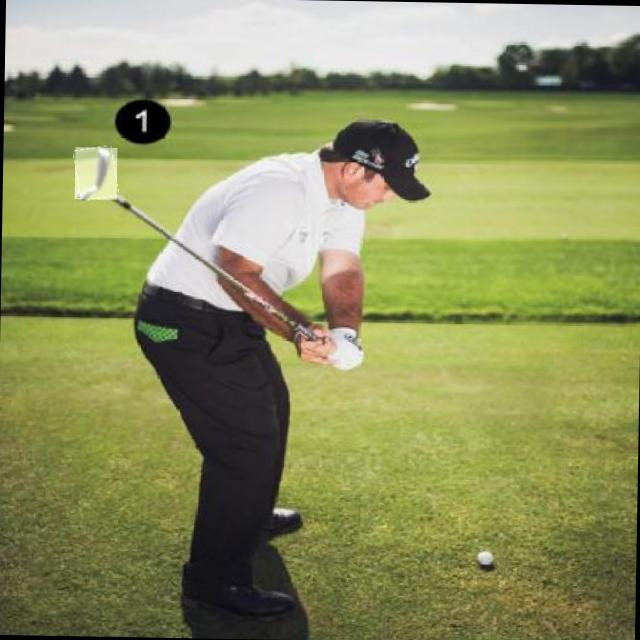club head: (74, 146, 117, 200)
